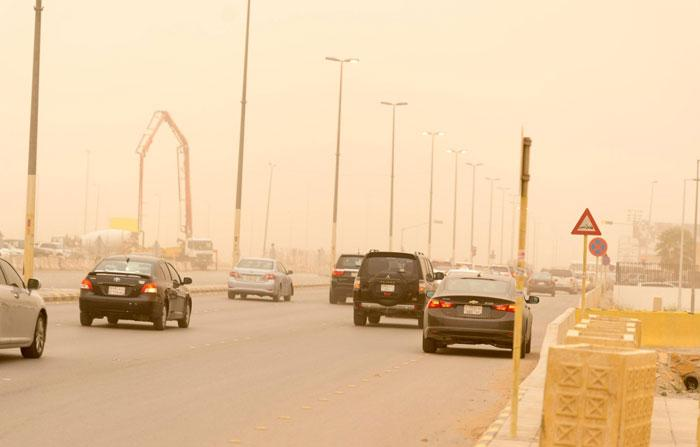car: (421, 268, 540, 360), (79, 252, 194, 330), (352, 247, 445, 329), (1, 255, 48, 357), (226, 255, 295, 301), (328, 251, 381, 304), (525, 270, 558, 297), (546, 268, 579, 295), (37, 240, 74, 261), (486, 264, 515, 290), (569, 270, 596, 293)
